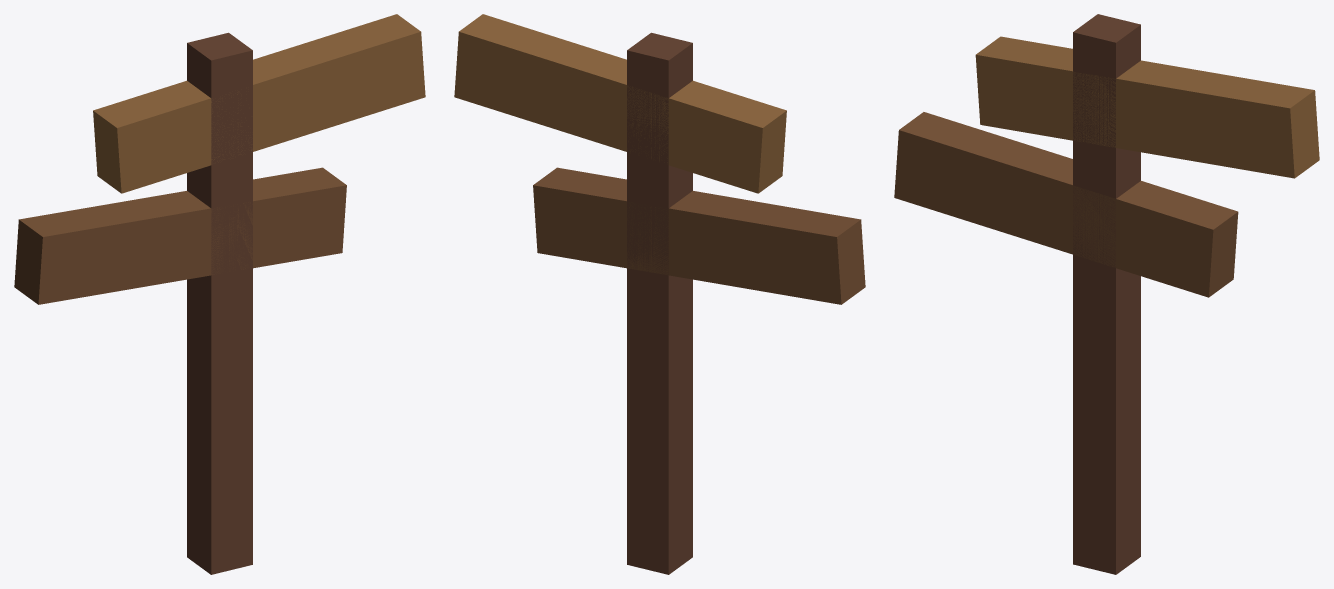
3 views of the same model, side by side, from view 1: azimuth 30°, elevation 25°; view 2: azimuth 150°, elevation 25°; view 3: azimuth 330°, elevation 25° (orthographic). The views are drawn at different scales.
Parts seen in each view (by area): view 1: P01_双向木路牌; view 2: P01_双向木路牌; view 3: P01_双向木路牌.
Boxes of the visible parts, box(x1,y1,x2,y2) form: P01_双向木路牌: box(14, 14, 425, 574); P01_双向木路牌: box(454, 14, 865, 574); P01_双向木路牌: box(894, 14, 1319, 574).
Size of the model in its own units: 0.7876 by 1 by 0.085.
